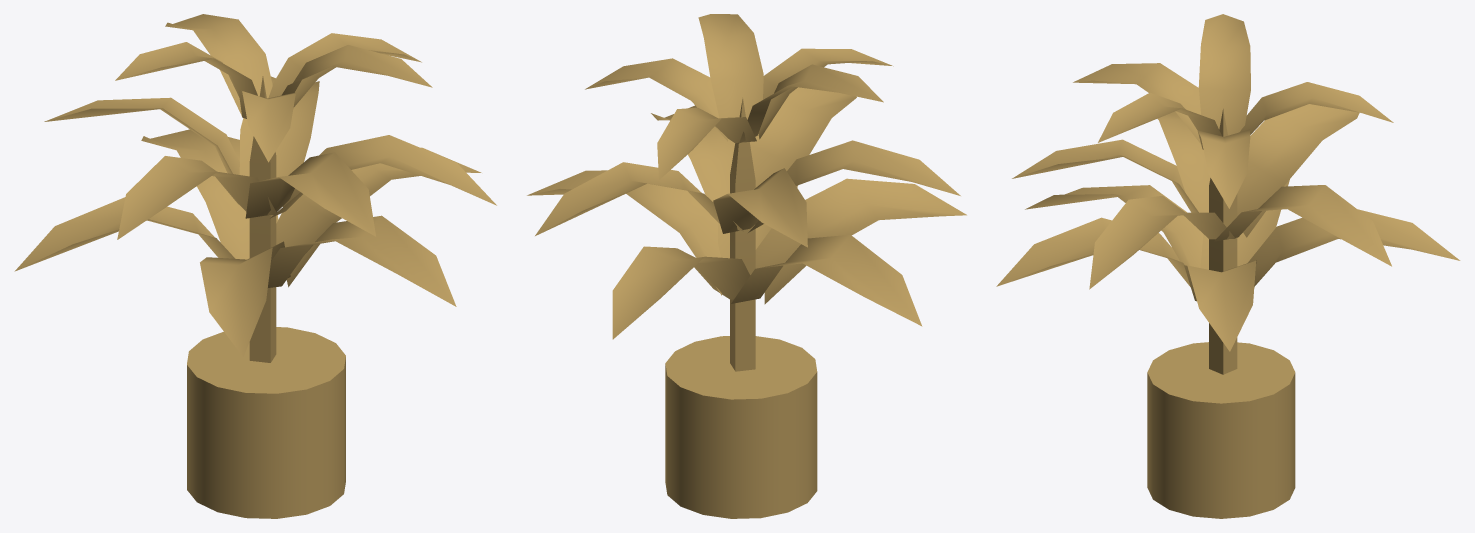
The model's file is Decor_Plant.fbx.
3 views of the same model, side by side, from view 1: azimuth 30°, elevation 25°; view 2: azimuth 150°, elevation 25°; view 3: azimuth 270°, elevation 25° (orthographic). The views are drawn at different scales.
Visible parts, largest first — view 1: Plant011; view 2: Plant011; view 3: Plant011.
Part boxes in pixels (x1=…): Plant011: x1=14, y1=14, x2=496, y2=518; Plant011: x1=527, y1=14, x2=966, y2=518; Plant011: x1=996, y1=14, x2=1460, y2=518.
Bounding box in the file's own units: 1.64 × 1.61 × 1.63.
Materials: 1 (1 with a texture image).
